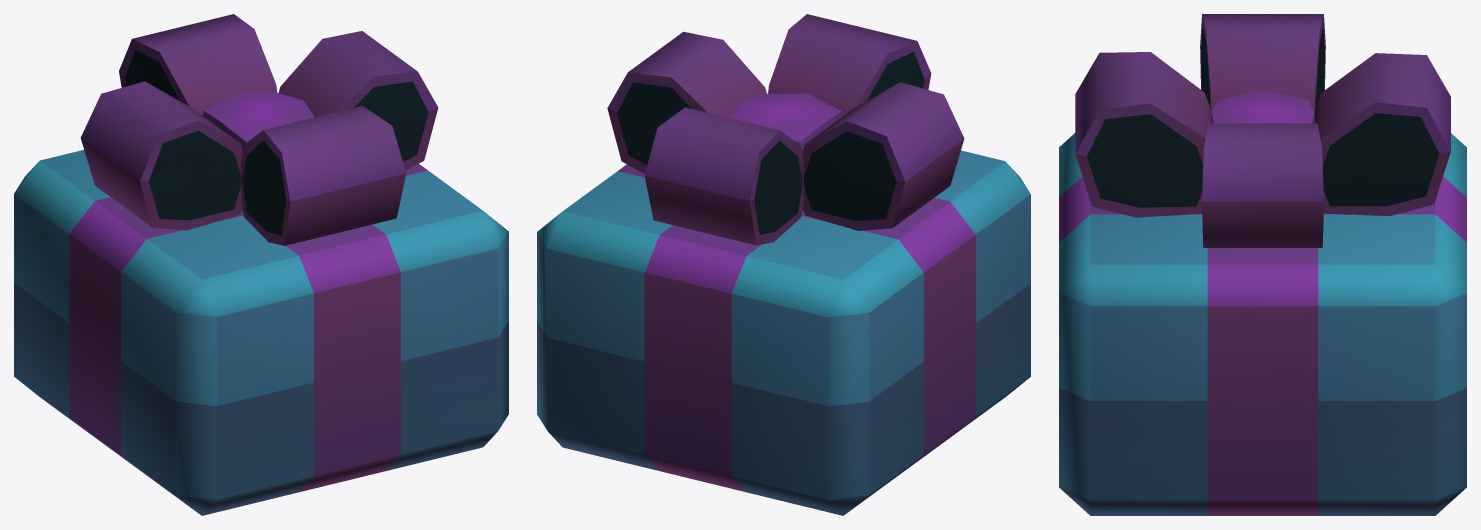
Rendered from presi_square_5_blue.fbx.
3 views of the same model, side by side, from view 1: azimuth 30°, elevation 25°; view 2: azimuth 150°, elevation 25°; view 3: azimuth 270°, elevation 25° (orthographic). The views are drawn at different scales.
Visible parts, largest first — view 1: presi_square_5_blue; view 2: presi_square_5_blue; view 3: presi_square_5_blue.
Boxes of the visible parts, x1=… form: presi_square_5_blue: x1=14, y1=14, x2=508, y2=515; presi_square_5_blue: x1=537, y1=14, x2=1030, y2=515; presi_square_5_blue: x1=1059, y1=14, x2=1466, y2=515.
Bounding box in the file's own units: 75 × 74 × 75.
Materials: 1 (1 with a texture image).
